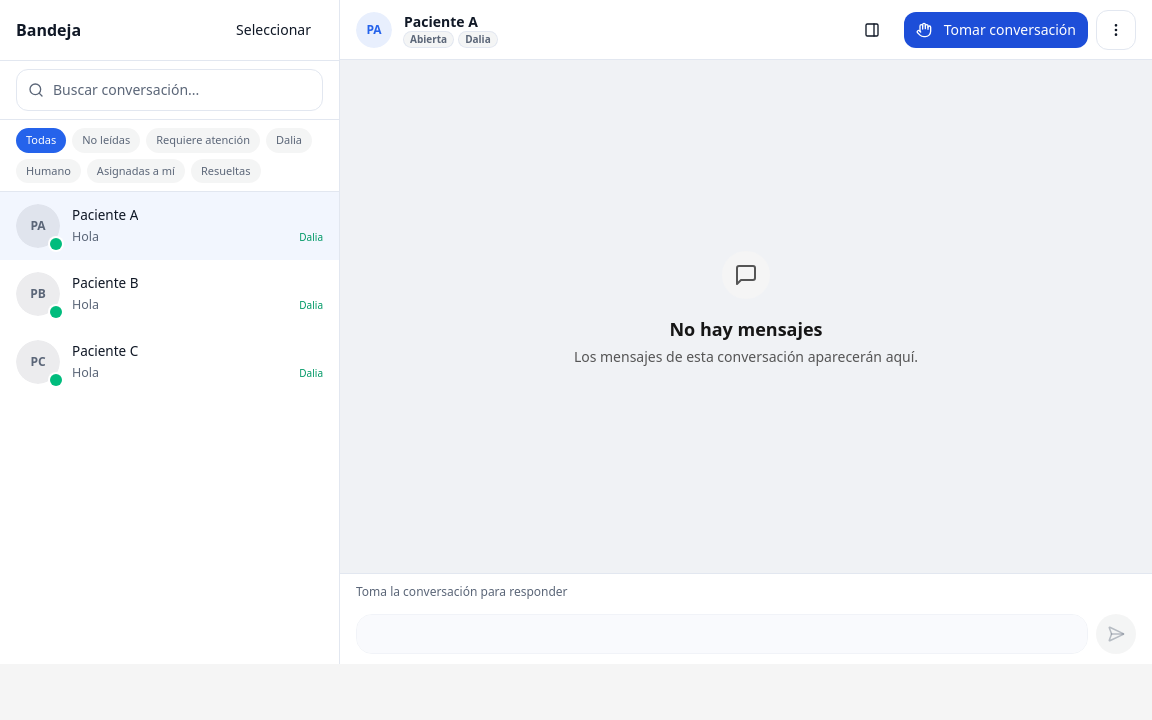
it: Eliminar conversaciones en la Bandeja › elimina varias seleccionadas y, si el resultado es parcial, dice cuántas salieron
Click the button "Seleccionar". click: [274, 30]
box: [224,12,323,48]
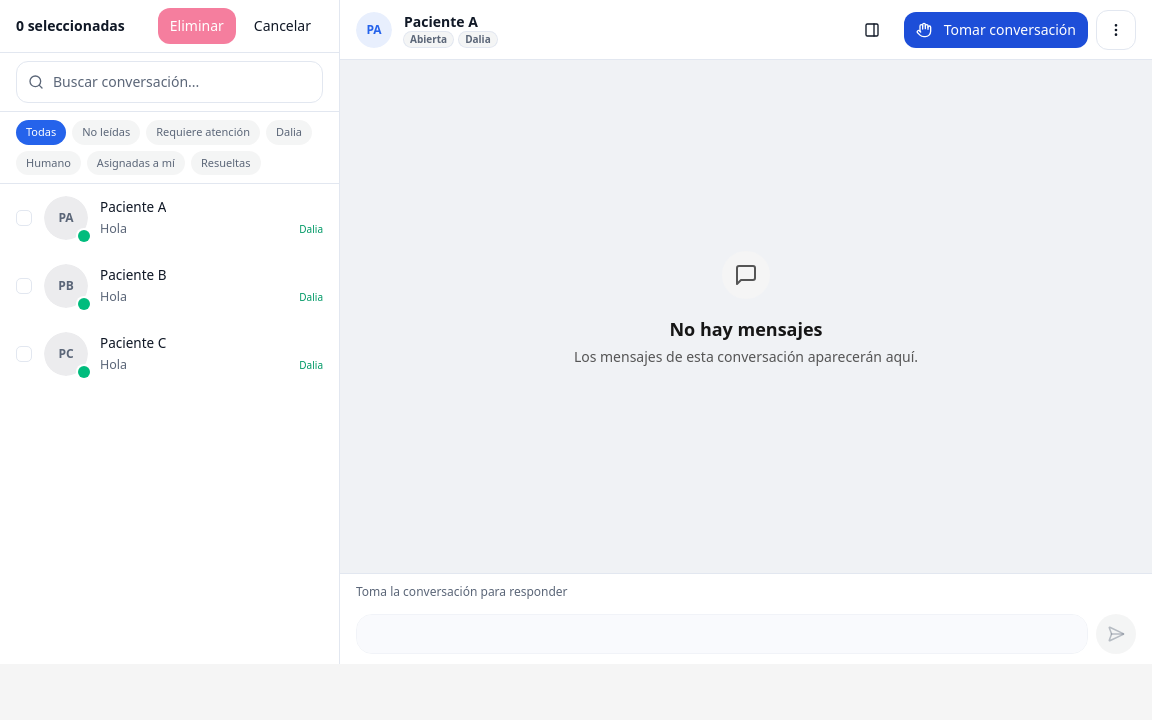
Expected: the text "0 seleccionadas" is shown, [16,16,125,36]
Expected: the button "Eliminar" is disabled, [158,8,236,44]
Click the checkbox named "Seleccionar la conversación con Paciente B". click: [24, 286]
box: [16,278,32,294]
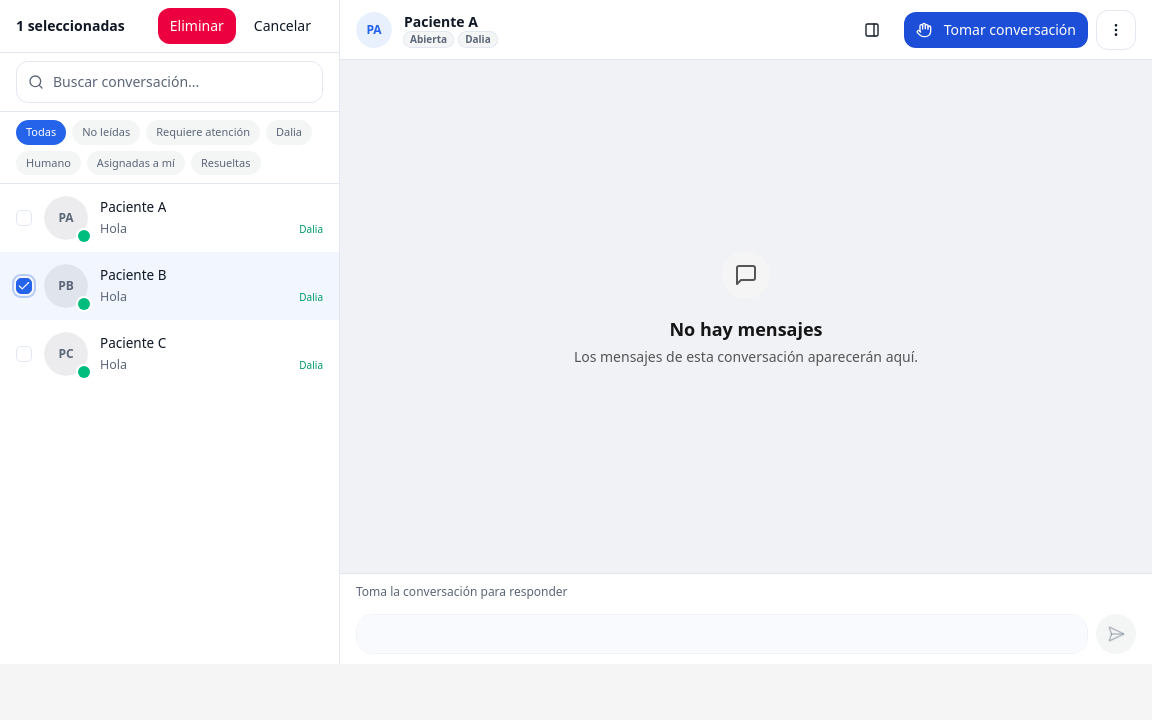
Click the checkbox named "Seleccionar la conversación con Paciente C". click: [24, 354]
box: [16,346,32,362]
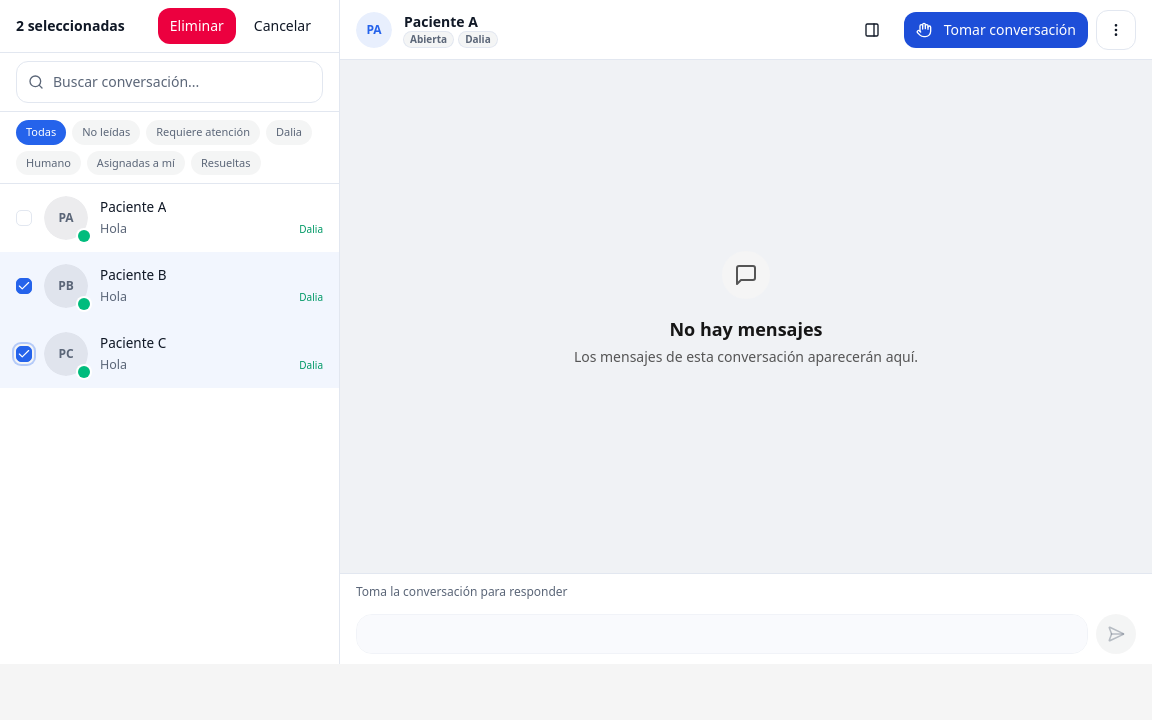
Expected: the text "2 seleccionadas" is shown, [16,16,125,36]
Click the button "Eliminar". click: [197, 26]
box: [158,8,236,44]
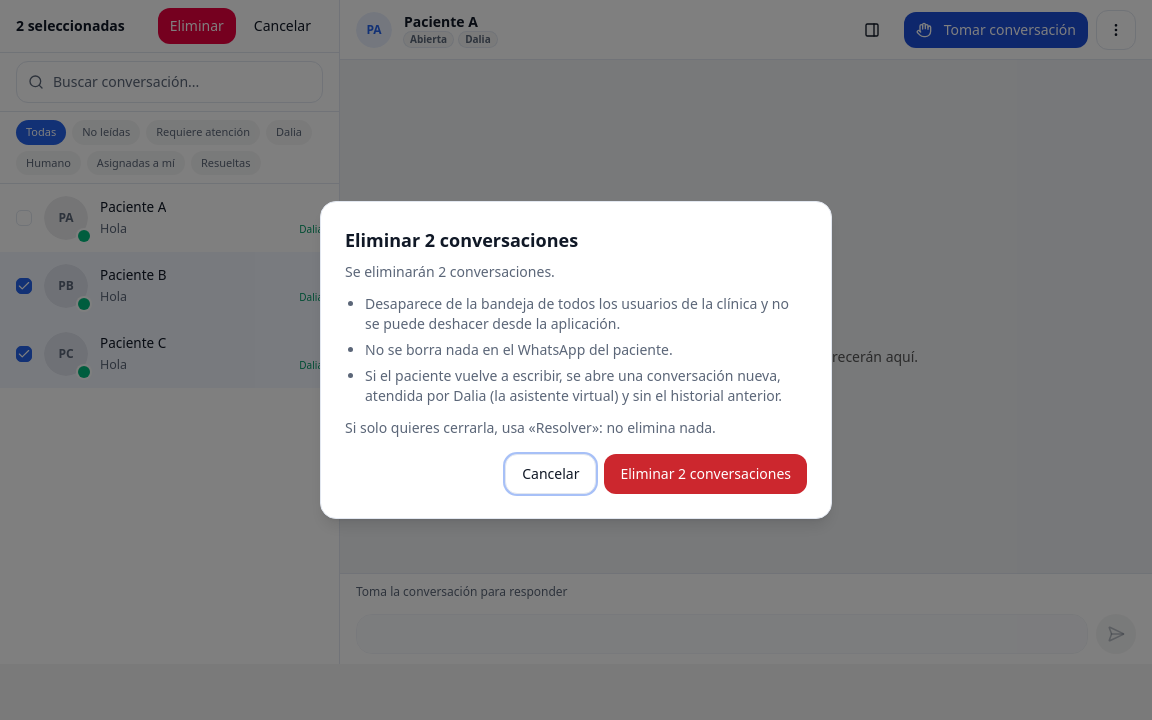
Expected: the text "Se eliminarán 2 conversaciones." is shown, [345,262,555,281]
Click the button "Eliminar 2 conversaciones". click: [706, 474]
box: [604,454,807,494]
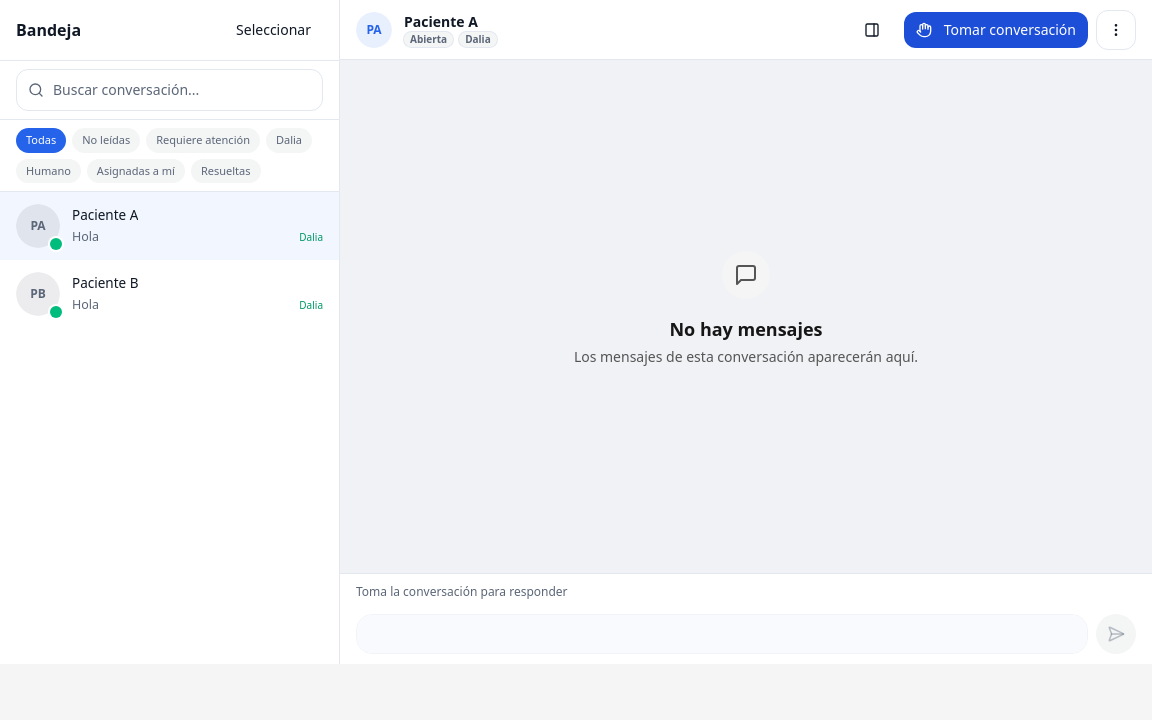
Expected: the button "Seleccionar" is shown, [224,12,323,48]
